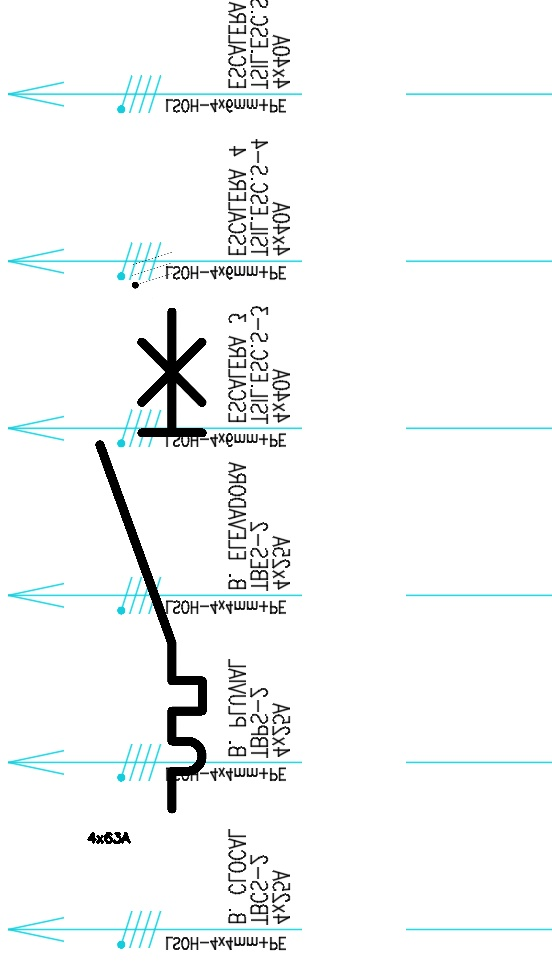interruptor_termomagnetico: (87, 299, 215, 822)
